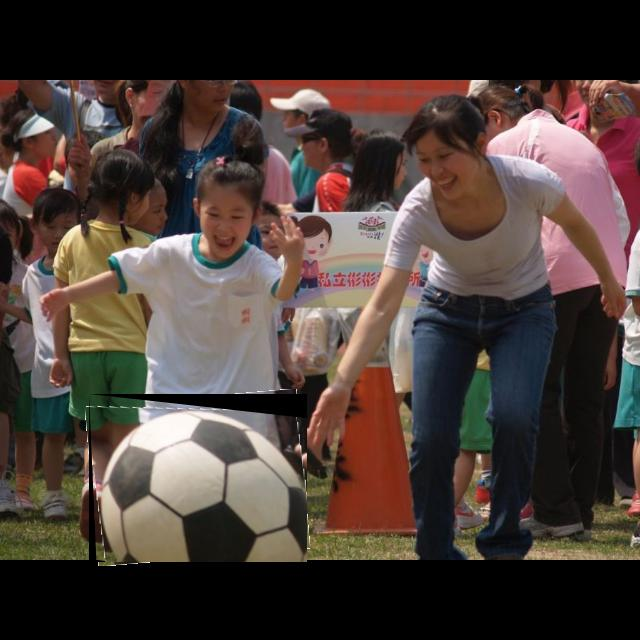Football: (89, 394, 307, 562)
